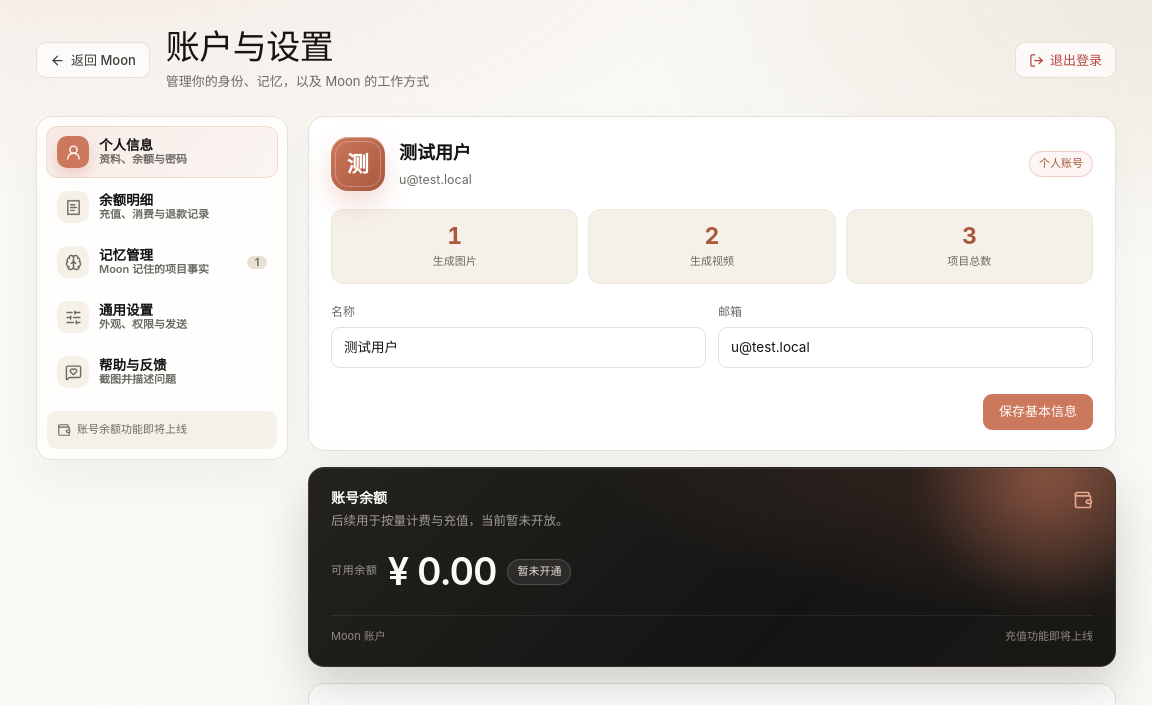
Test: AccountPage 菜单与记忆管理 › 关闭记忆管理会持久化并禁用全局记忆编辑
The image size is (1152, 705).
Expected: the heading "测试用户" is shown, x1=399 y1=142 x2=471 y2=163
Step 1. Click the button "记忆管理 Moon 记住的项目事实 1" → (162, 262), box x1=46 y1=236 x2=278 y2=288
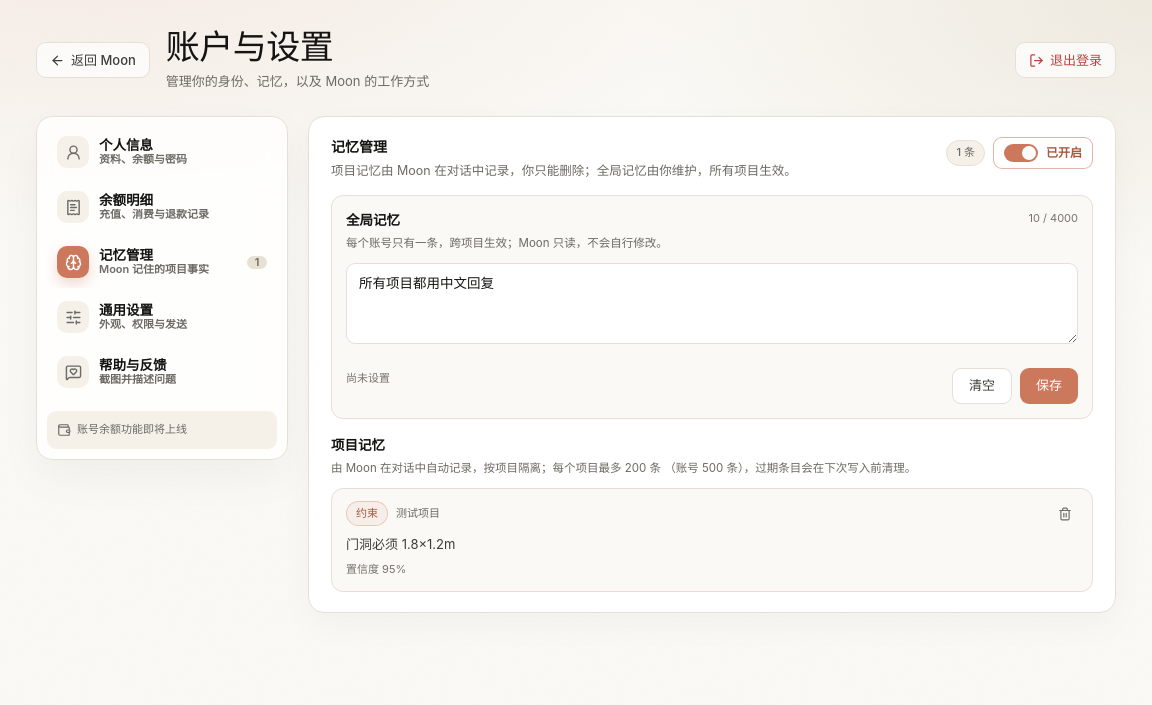
Expected: the text "门洞必须 1.8×1.2m" is shown, x1=346 y1=536 x2=455 y2=552
Step 2. Click the switch named "记忆管理开关" → (1043, 153), box x1=993 y1=137 x2=1093 y2=169
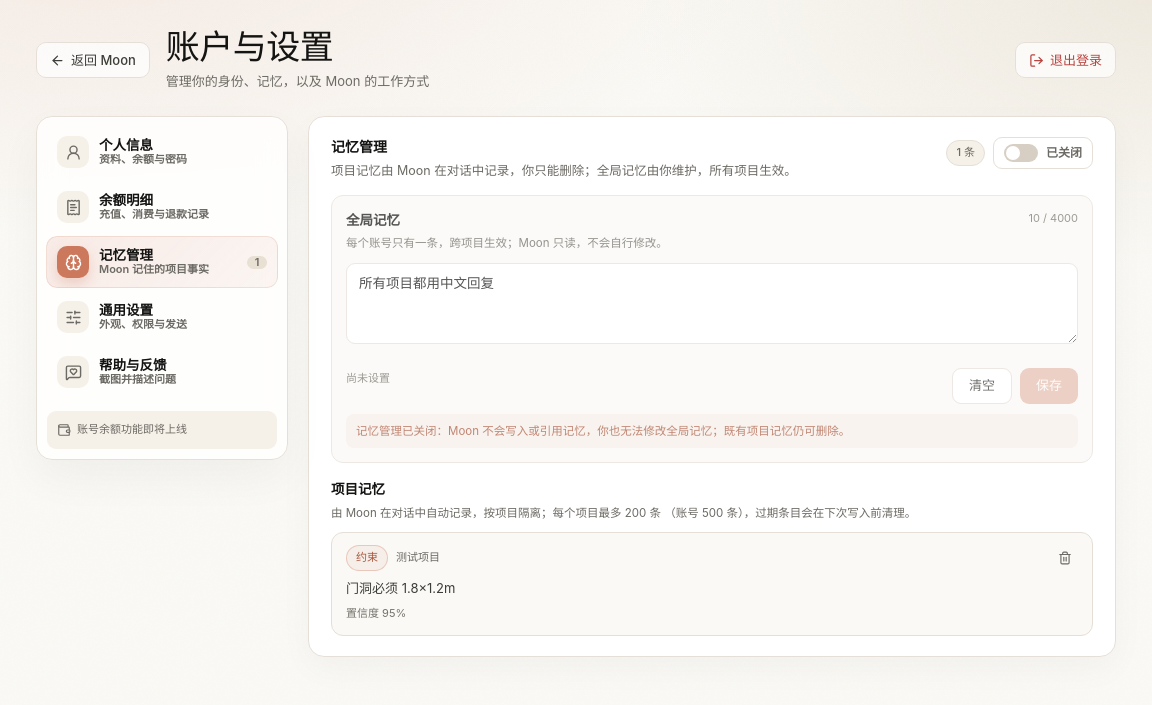
Expected: the text box showing "所有项目都用中文回复" is disabled, x1=346 y1=263 x2=1078 y2=344
Expected: the text "记忆管理已关闭：Moon 不会写入或引用记忆，你也无法修改全局记忆；既有项目记忆仍可删除。" is shown, x1=346 y1=414 x2=1078 y2=448
